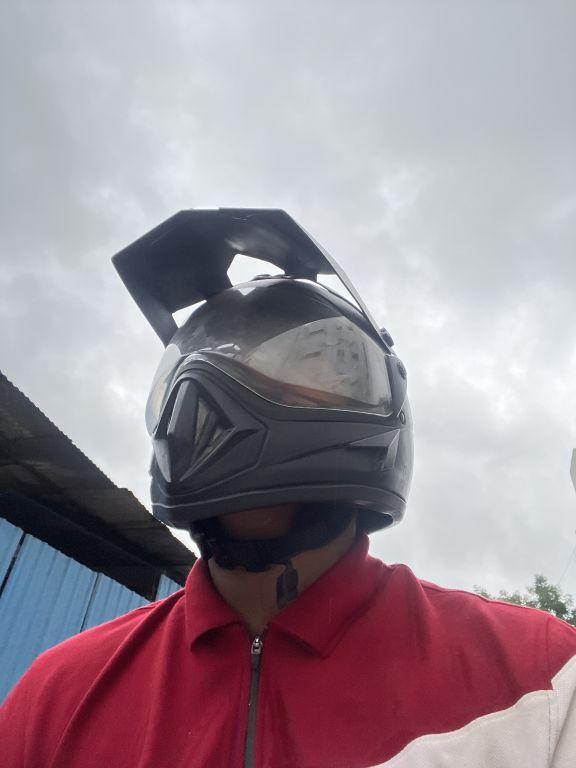helmet: (99, 187, 421, 555)
